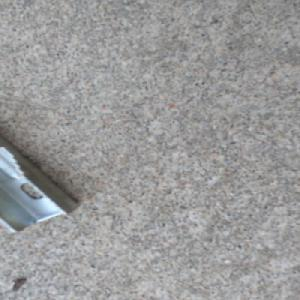ClampPart: (0, 132, 78, 233)
